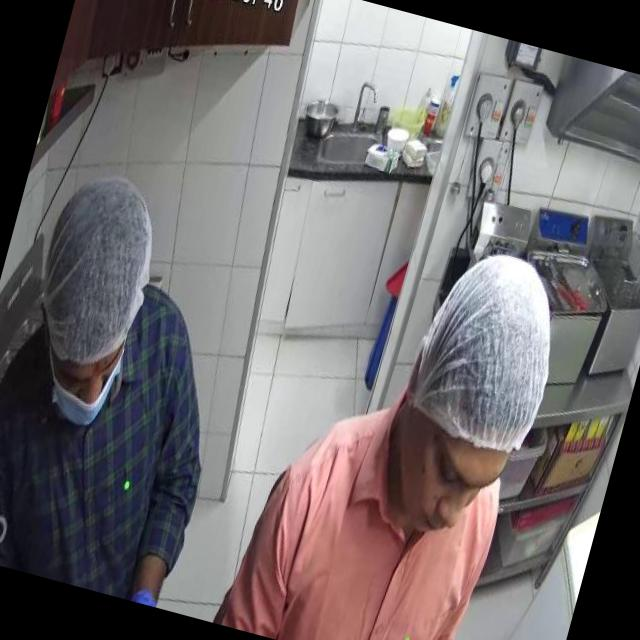hairnet: (406, 236, 576, 457), (24, 170, 165, 364)
